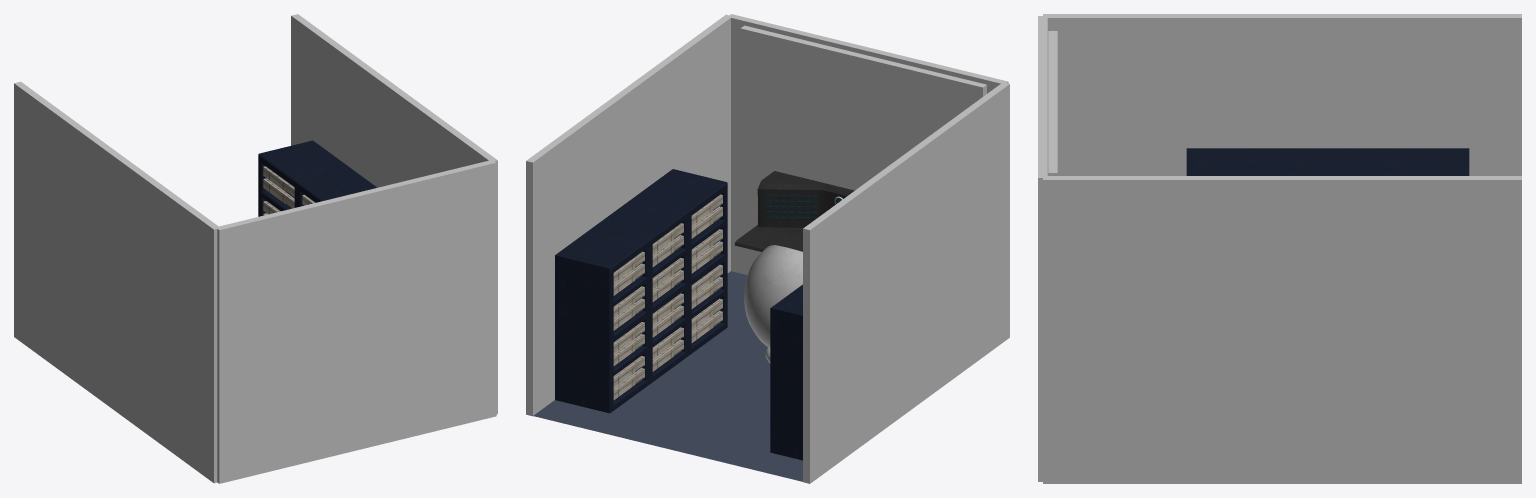
File: server room.fbx
3 renders of one model, left to right at view 1: azimuth 30°, elevation 25°; view 2: azimuth 150°, elevation 25°; view 3: azimuth 270°, elevation 25°, orthographic. The views are drawn at different scales.
Parts seen in each view (by area): view 1: wall1, wall2, wall3, server_shelf_1 (×2); view 2: wall2, wall3, server_shelf_1 (×4), screen1, ground, wall1, chair_outside, control_panel, desk1; view 3: wall3, wall2, server_shelf_1 (×3), wall1, screen1.
Part boxes in pixels (x1,y1,x2,y2): wall1: (216,160,496,483); wall2: (14,81,220,483); wall3: (291,14,497,414); server_shelf_1 (×2): (258,140,377,216); wall2: (803,82,1009,483); wall3: (526,14,732,416); server_shelf_1 (×4): (555,169,802,460); screen1: (740,25,986,189); ground: (533,271,802,481); wall1: (728,14,1008,274); chair_outside: (744,245,802,347); control_panel: (757,171,854,227); desk1: (734,225,803,251); wall3: (1043,176,1521,483); wall2: (1043,14,1521,175); server_shelf_1 (×3): (1186,148,1469,175); wall1: (1038,16,1047,481); screen1: (1048,31,1057,175).
Size of the model in its own units: 410 by 354 by 505.
